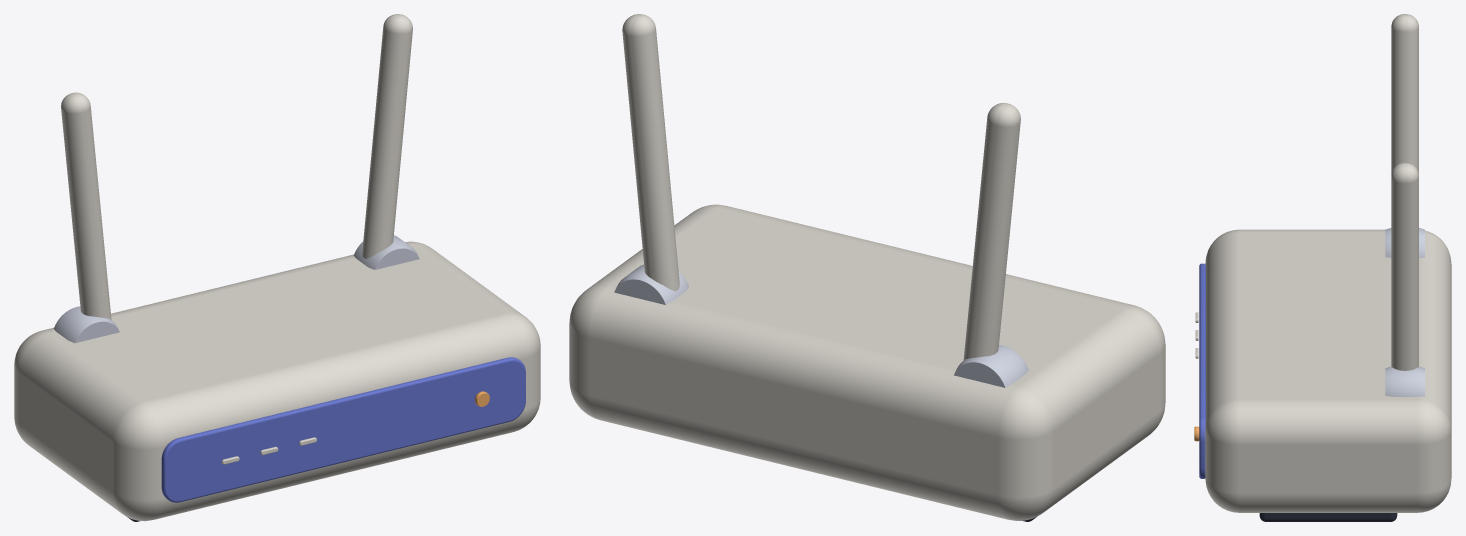
File: router.glb
3 renders of one model, left to right at view 1: azimuth 30°, elevation 25°; view 2: azimuth 150°, elevation 25°; view 3: azimuth 270°, elevation 25°, orthographic. The views are drawn at different scales.
Visible parts, largest first — view 1: router; view 2: router; view 3: router.
Part boxes in pixels (x1,y1,x2,y2): router: [14, 14, 540, 521]; router: [569, 14, 1165, 521]; router: [1194, 14, 1451, 521].
Size of the model in its own units: 1.75 by 1.46 by 0.971.
